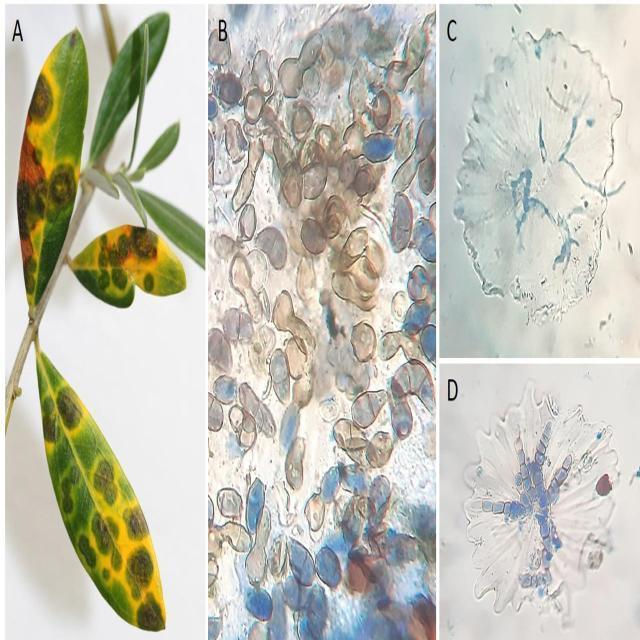OlivePeacockSpot: (36, 352, 165, 632), (16, 28, 88, 312), (68, 225, 186, 308)
